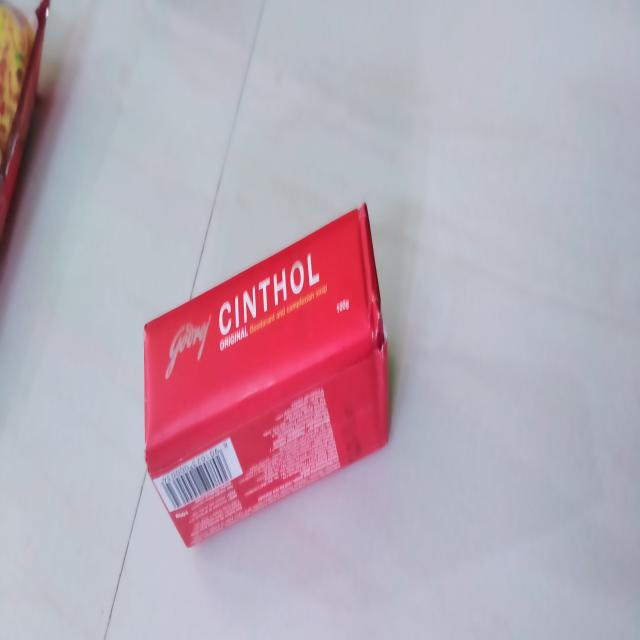soap: (140, 200, 417, 555)
